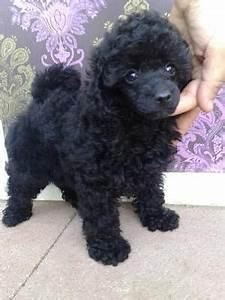dog: (0, 1, 194, 266)
